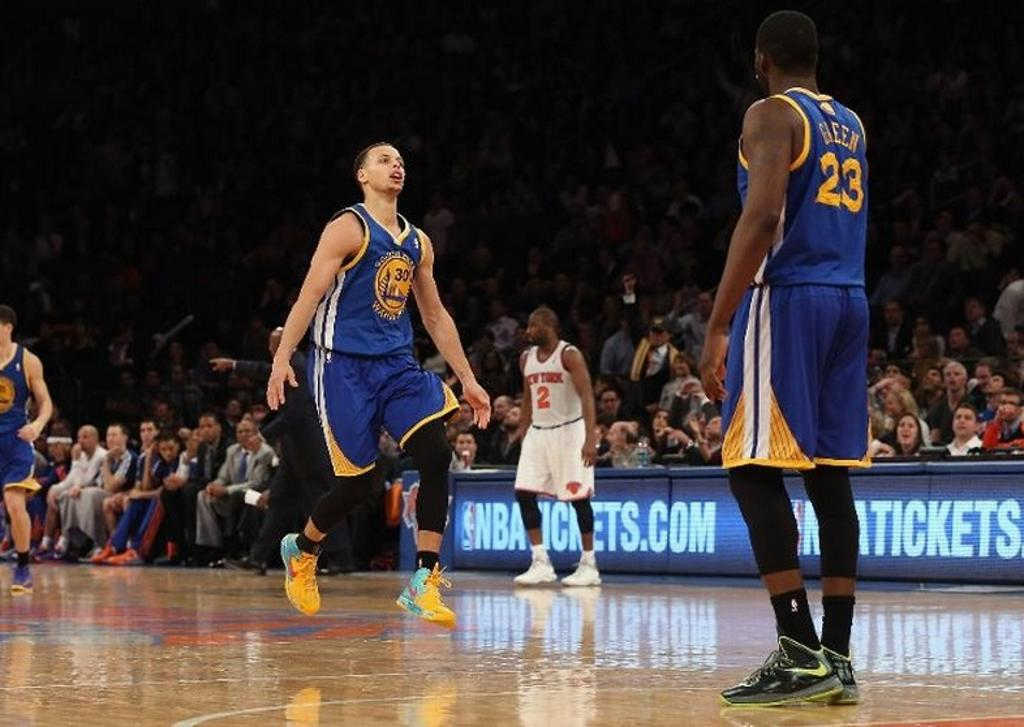face: (364, 145, 405, 190), (951, 406, 975, 435), (526, 312, 546, 342), (999, 393, 1021, 420), (895, 416, 916, 444), (455, 433, 475, 457), (198, 416, 216, 442), (975, 367, 993, 393), (235, 423, 255, 446), (944, 365, 962, 390), (77, 427, 95, 451), (159, 439, 177, 462), (600, 390, 618, 413), (652, 409, 670, 432), (492, 396, 508, 421), (921, 368, 940, 389), (455, 403, 473, 425), (885, 395, 903, 417), (105, 427, 122, 450), (704, 415, 722, 436), (605, 425, 622, 447), (139, 421, 154, 445), (505, 404, 521, 426), (50, 423, 66, 445), (649, 327, 666, 347), (987, 373, 1003, 394), (698, 293, 713, 315), (578, 324, 594, 343), (49, 441, 65, 460), (673, 356, 688, 376), (877, 385, 891, 403), (885, 365, 900, 381), (226, 399, 240, 416), (156, 403, 169, 421), (1, 321, 12, 342), (623, 274, 637, 289), (619, 312, 631, 328), (601, 297, 613, 312), (22, 486, 34, 501), (34, 435, 45, 451), (251, 401, 264, 414), (184, 390, 195, 403), (569, 310, 579, 322), (516, 328, 524, 339)
